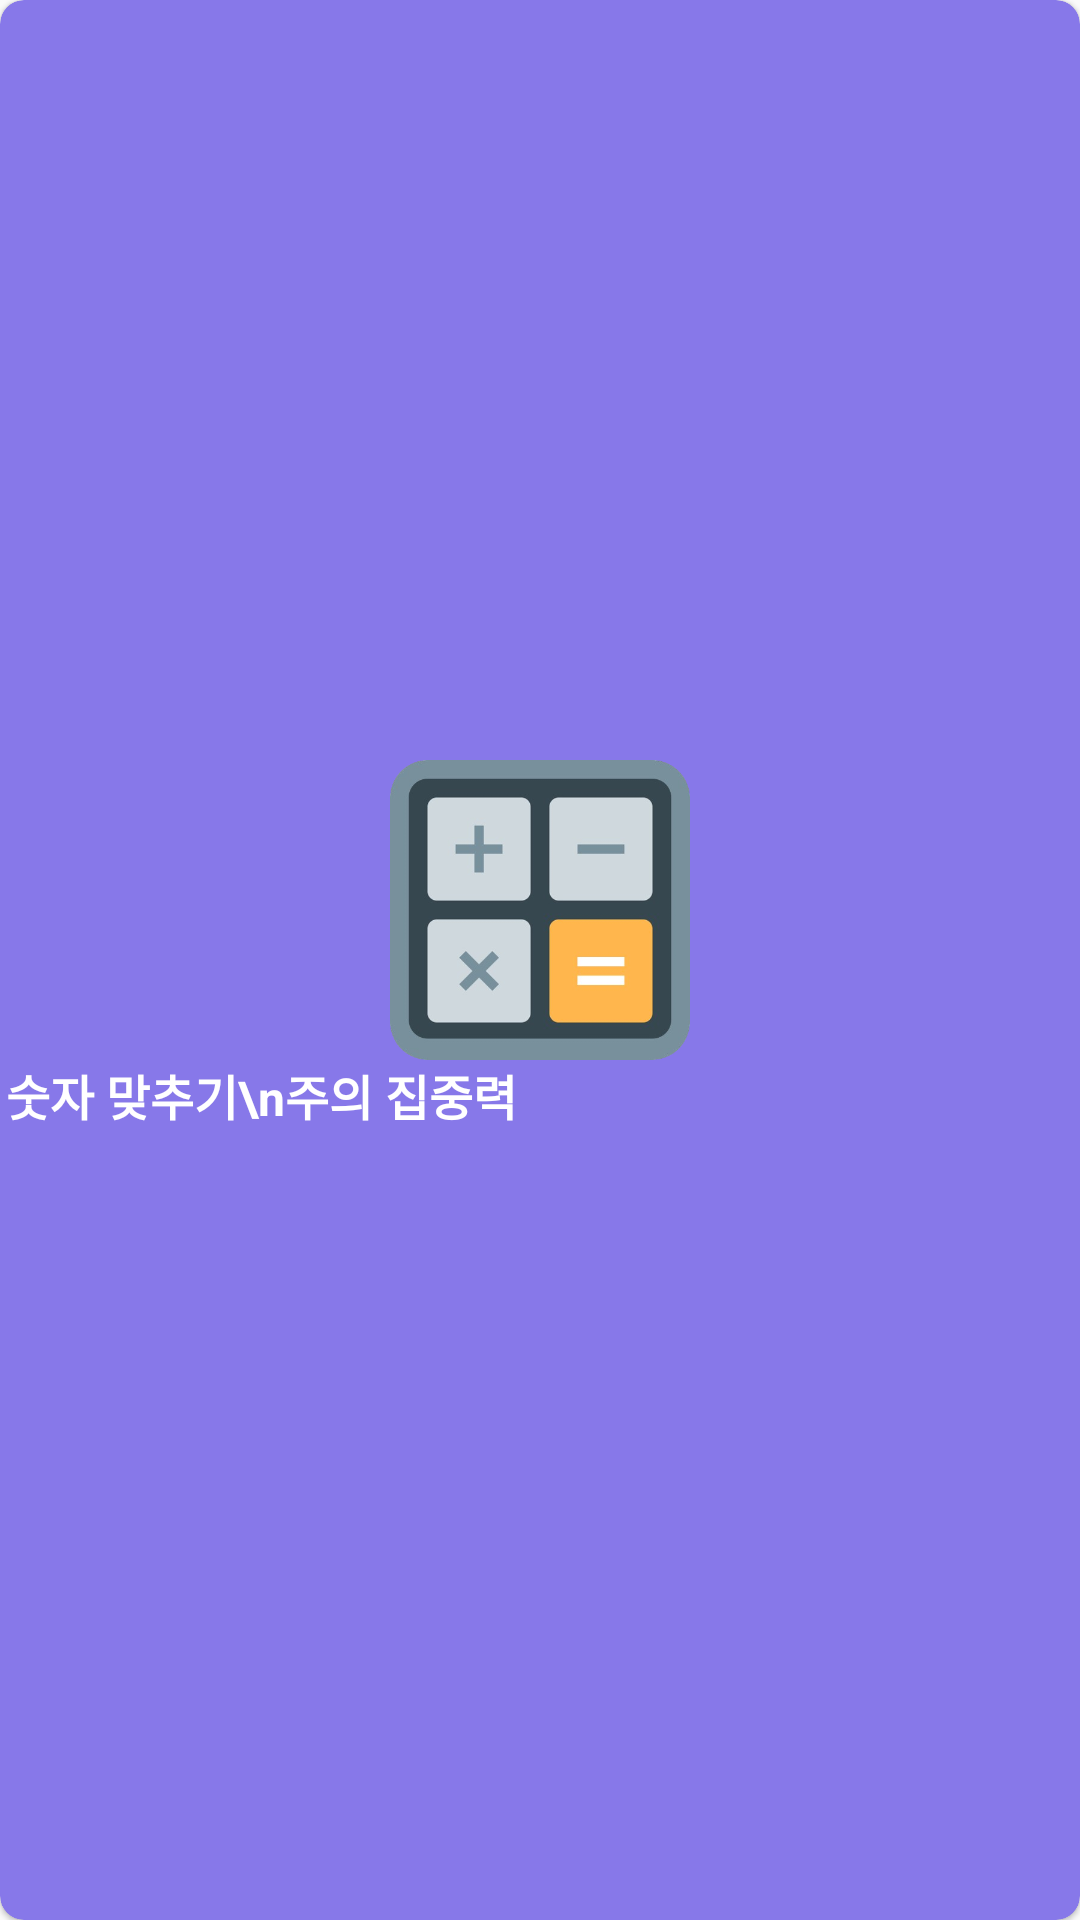

Icons on this 1080w x 1920h Android screen, each with the point to tap as point (x, y):
calculation: point (540, 910)
